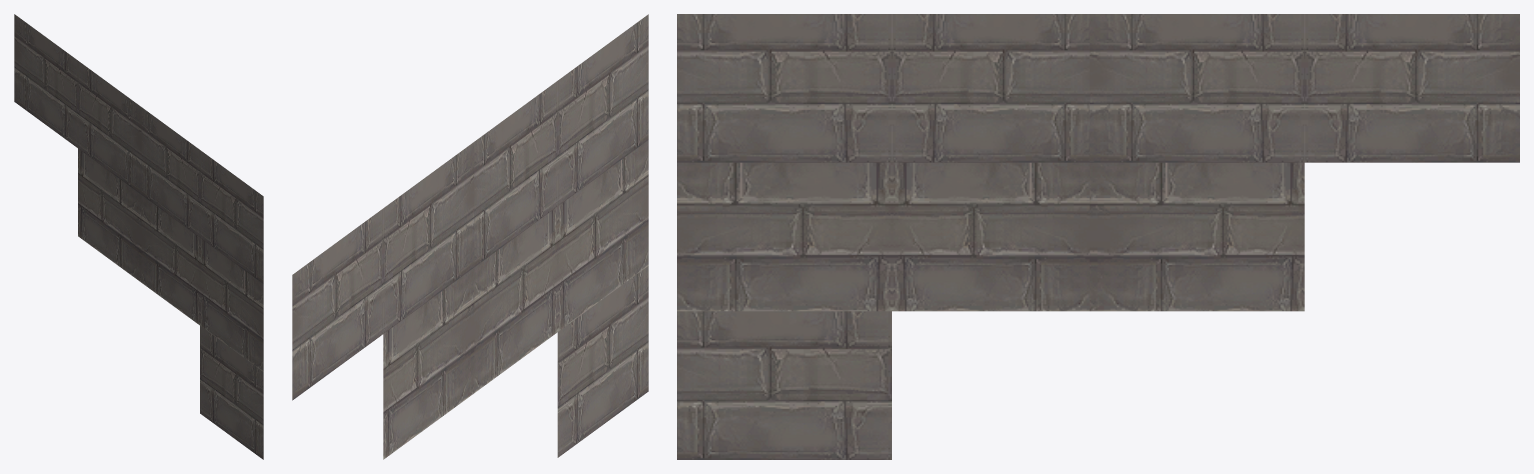
File: cs_lobbynew02_Terrains_02_ltbian02.FBX
3 views of the same model, side by side, from view 1: azimuth 30°, elevation 25°; view 2: azimuth 150°, elevation 25°; view 3: azimuth 270°, elevation 25° (orthographic). The views are drawn at different scales.
Parts seen in each view (by area): view 1: cs_lobbynew02_Terrains_02_ltbian02; view 2: cs_lobbynew02_Terrains_02_ltbian02; view 3: cs_lobbynew02_Terrains_02_ltbian02.
Boxes of the visible parts, box(x1,y1,x2,y2) form: cs_lobbynew02_Terrains_02_ltbian02: box(14, 14, 263, 459); cs_lobbynew02_Terrains_02_ltbian02: box(292, 14, 648, 459); cs_lobbynew02_Terrains_02_ltbian02: box(677, 14, 1519, 459).
Size of the model in its own units: 9.16e-05 by 307 by 525.
